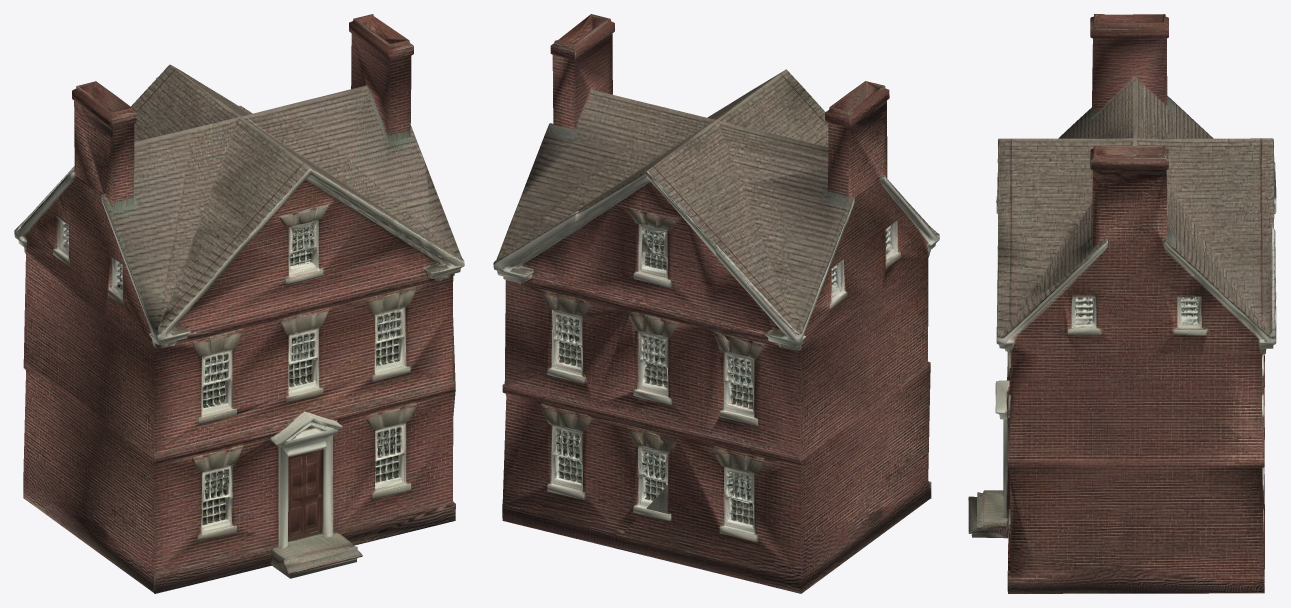
File: bldg-row-brick-a.glb
The picture shows the model from 3 angles, left to right: view 1: azimuth 30°, elevation 25°; view 2: azimuth 150°, elevation 25°; view 3: azimuth 270°, elevation 25°; orthographic projection. The views are drawn at different scales.
Visible parts, largest first — view 1: Mesh_0; view 2: Mesh_0; view 3: Mesh_0.
Boxes of the visible parts, x1=… form: Mesh_0: x1=14, y1=14, x2=464, y2=593; Mesh_0: x1=493, y1=14, x2=939, y2=593; Mesh_0: x1=968, y1=14, x2=1276, y2=593.
Bounding box in the file's own units: 1.36 × 1.9 × 1.21.
Materials: 1 (1 with a texture image).
